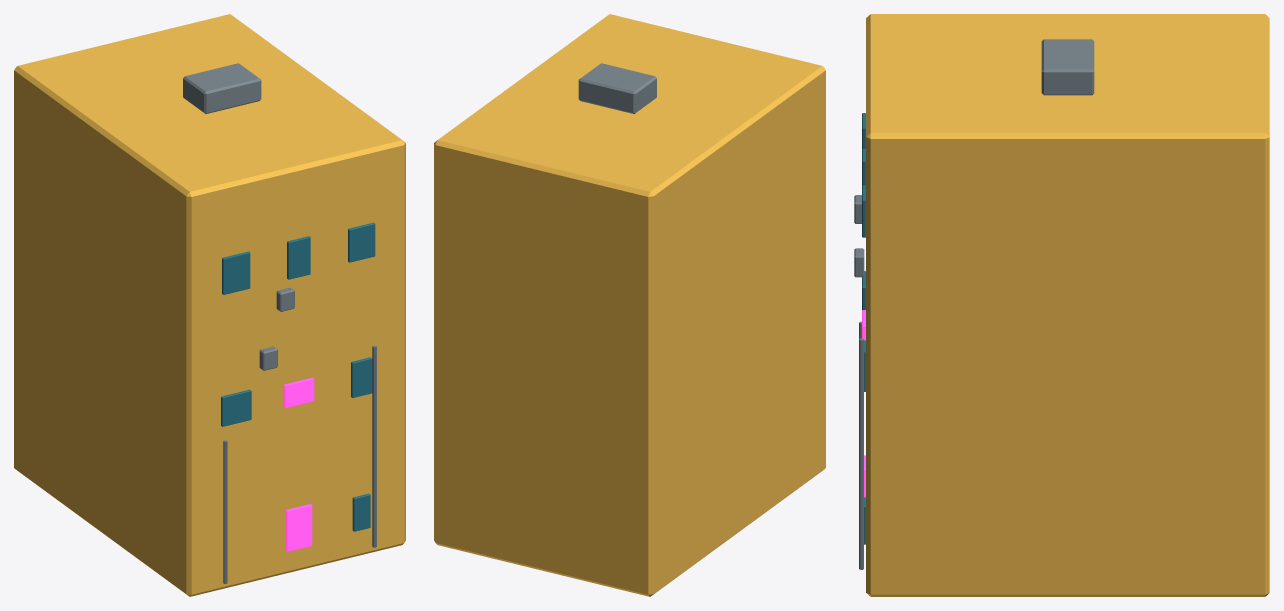
The model's file is building_032_seed11.glb.
3 views of the same model, side by side, from view 1: azimuth 30°, elevation 25°; view 2: azimuth 150°, elevation 25°; view 3: azimuth 270°, elevation 25° (orthographic). The views are drawn at different scales.
Parts seen in each view (by area): view 1: building_032_seed11; view 2: building_032_seed11; view 3: building_032_seed11.
Part boxes in pixels (left/top/right/bottom): building_032_seed11: left=14, top=14, right=405, bottom=596; building_032_seed11: left=434, top=14, right=825, bottom=596; building_032_seed11: left=854, top=14, right=1269, bottom=596.
Size of the model in its own units: 5.09 by 9.47 by 7.28.
